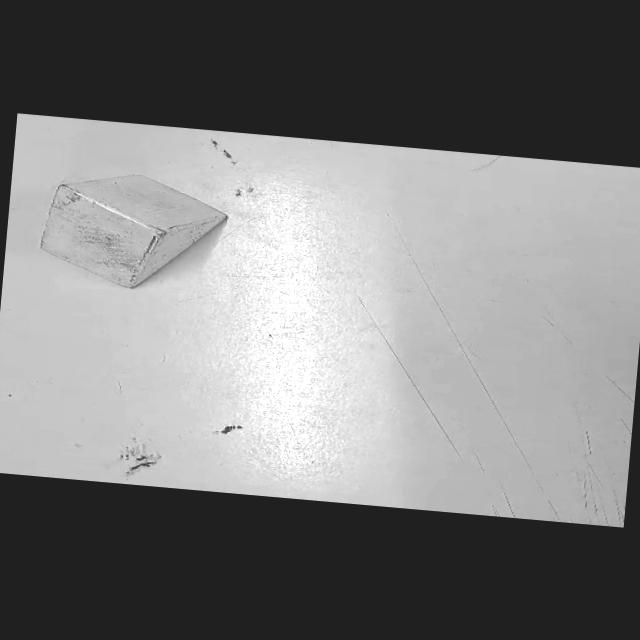ytriangle: (32, 162, 238, 297)
